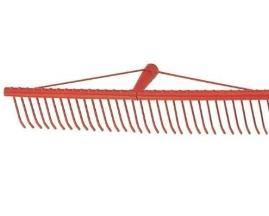RATEAU: (0, 55, 269, 212)
